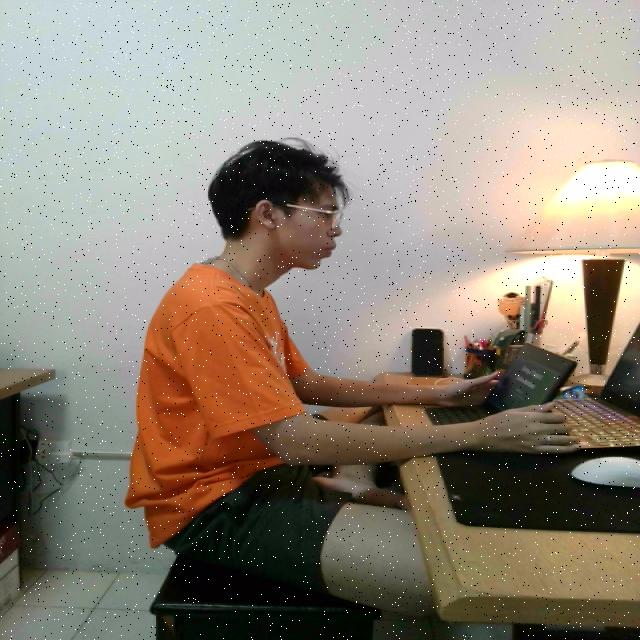Good: (134, 126, 423, 589)
